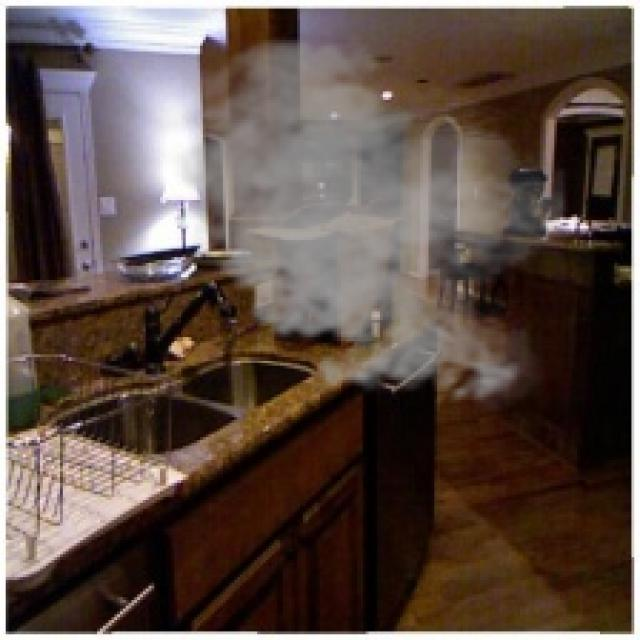Smoke: (162, 28, 568, 414)
